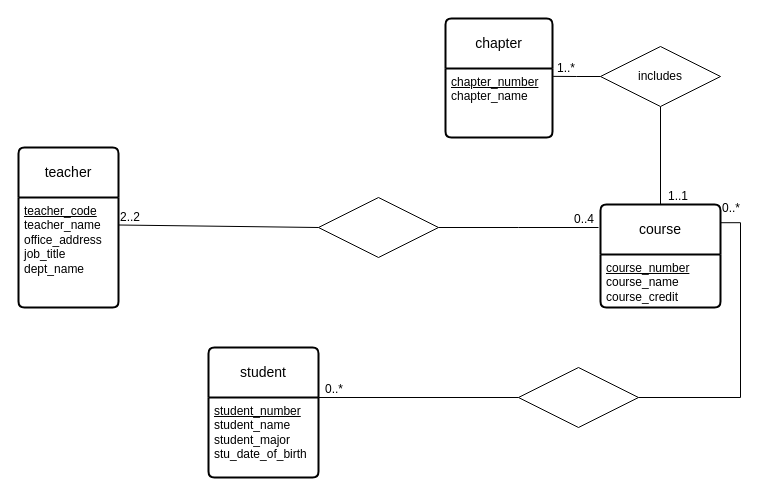
Image size: 759x495. Some labels were removed from this diagram. Here are the shapes that lost their labels. From the top down, the box of each, then its label:
(318, 196, 438, 258): teaches
(518, 366, 638, 428): takes
